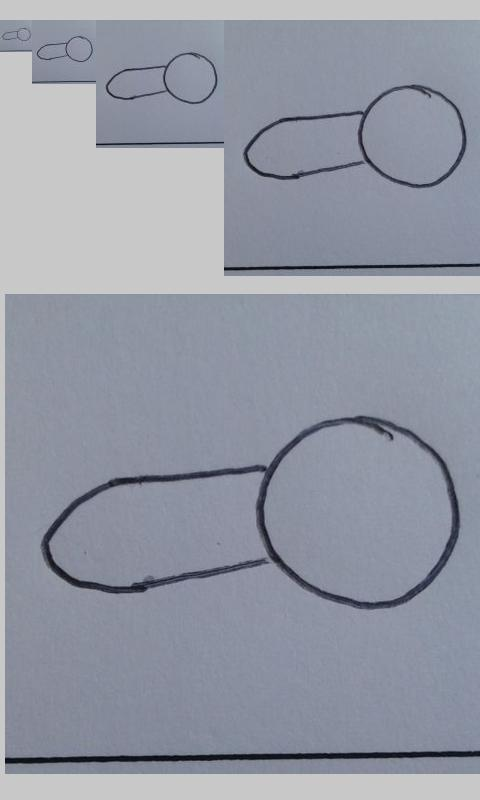switch: (40, 415, 462, 611), (242, 85, 468, 189), (105, 52, 218, 104), (36, 36, 93, 63), (2, 27, 32, 42)
